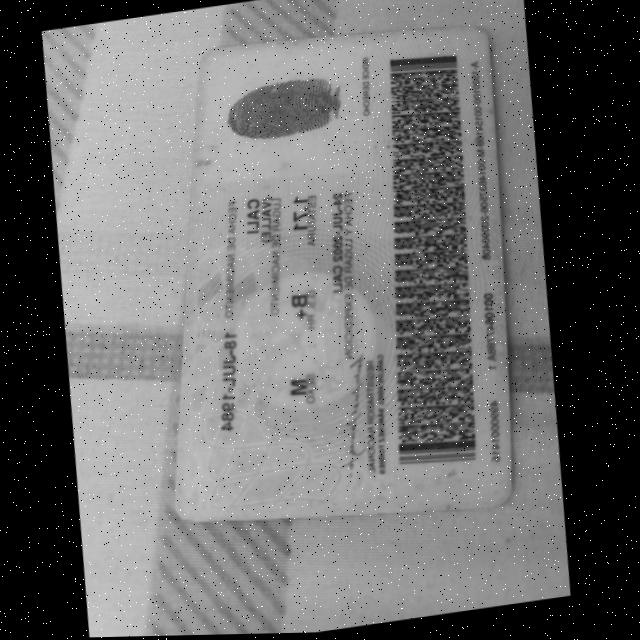card: (176, 28, 510, 521)
